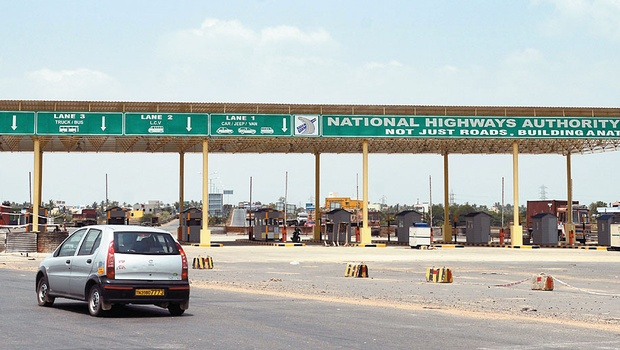toll plaza: (13, 84, 620, 247)
